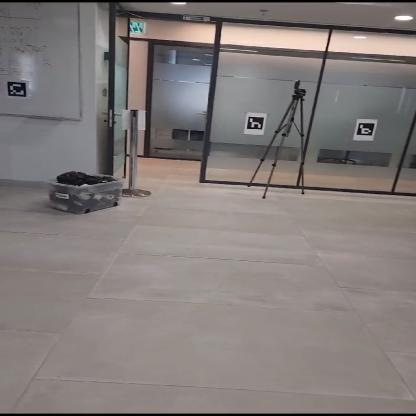open: (127, 38, 212, 188)
